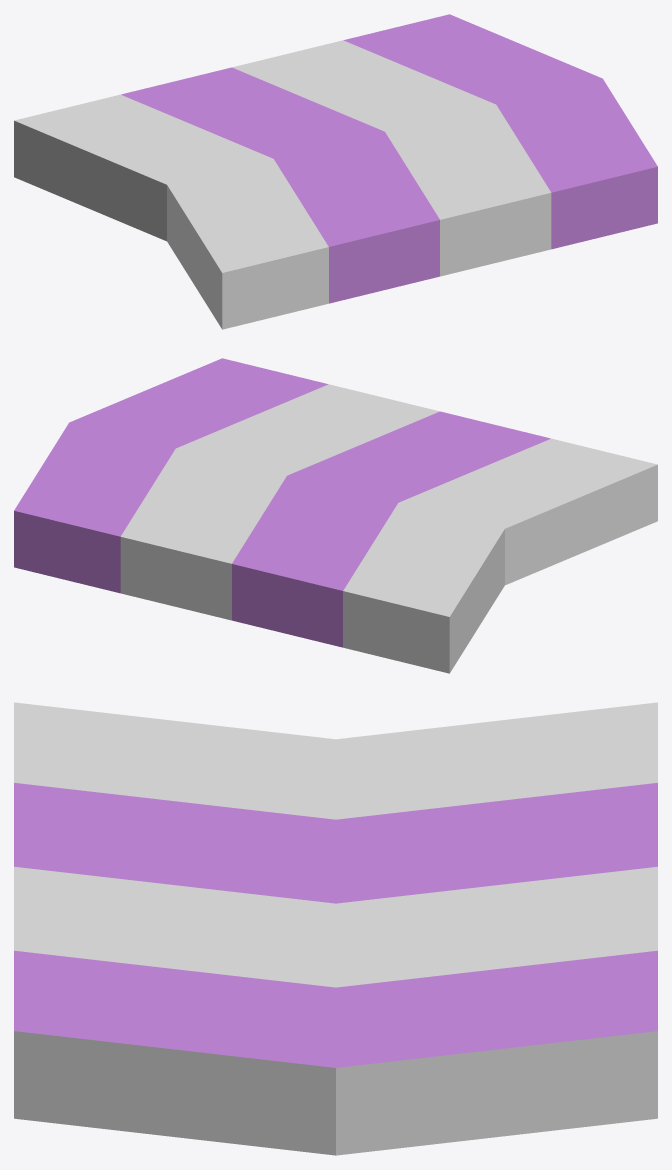
Rendered from Platform.fbx.
3 views of the same model, one above another, from view 1: azimuth 30°, elevation 25°; view 2: azimuth 150°, elevation 25°; view 3: azimuth 270°, elevation 25° (orthographic). The views are drawn at different scales.
Parts seen in each view (by area): view 1: Cube; view 2: Cube; view 3: Cube.
Boxes of the visible parts, <box> form: Cube: <box>14,14,657,329</box>; Cube: <box>14,358,657,673</box>; Cube: <box>14,702,657,1155</box>.
Size of the model in its own units: 445 by 49.73 by 331.
